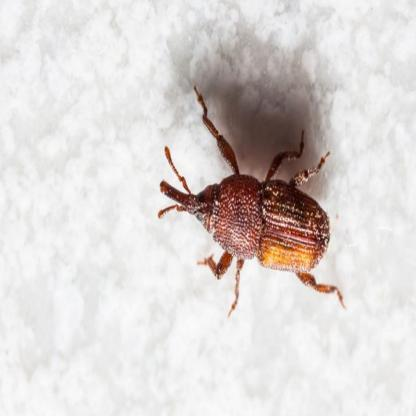rice-bug: (157, 144, 336, 294)
